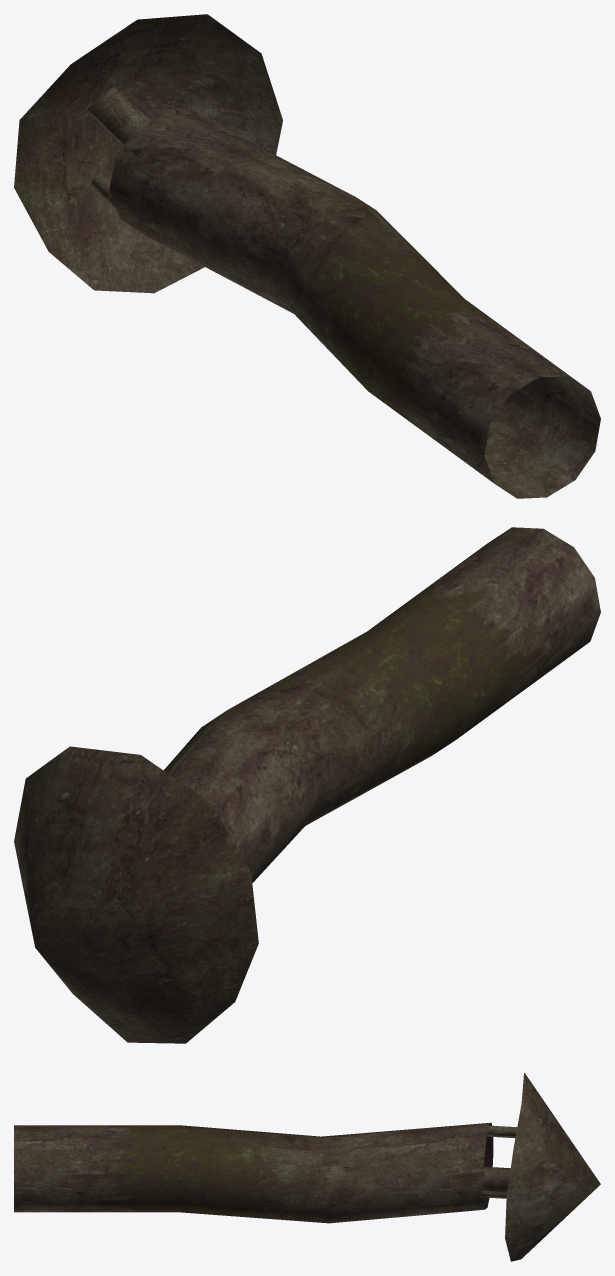
File: TI_Chimney_02.fbx
The picture shows the model from 3 angles, top to bottom: view 1: azimuth 30°, elevation 25°; view 2: azimuth 150°, elevation 25°; view 3: azimuth 270°, elevation 25°; orthographic projection. The views are drawn at different scales.
Parts seen in each view (by area): view 1: TI_Chimney_02; view 2: TI_Chimney_02; view 3: TI_Chimney_02.
Boxes of the visible parts, box(x1,y1,x2,y2) form: TI_Chimney_02: box(14, 14, 600, 498); TI_Chimney_02: box(14, 527, 600, 1043); TI_Chimney_02: box(14, 1073, 600, 1261).
Bounding box in the file's own units: 1.15 × 1.21 × 3.58.
